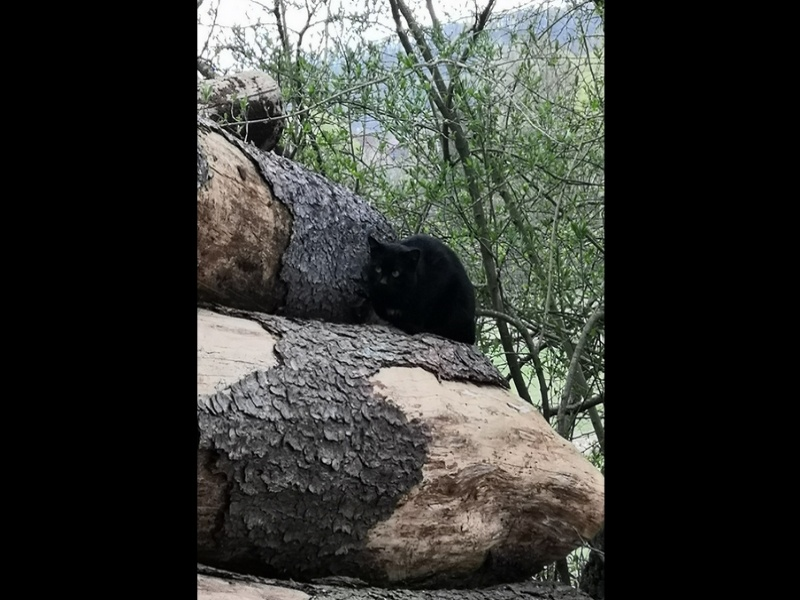cat: (361, 230, 486, 348)
